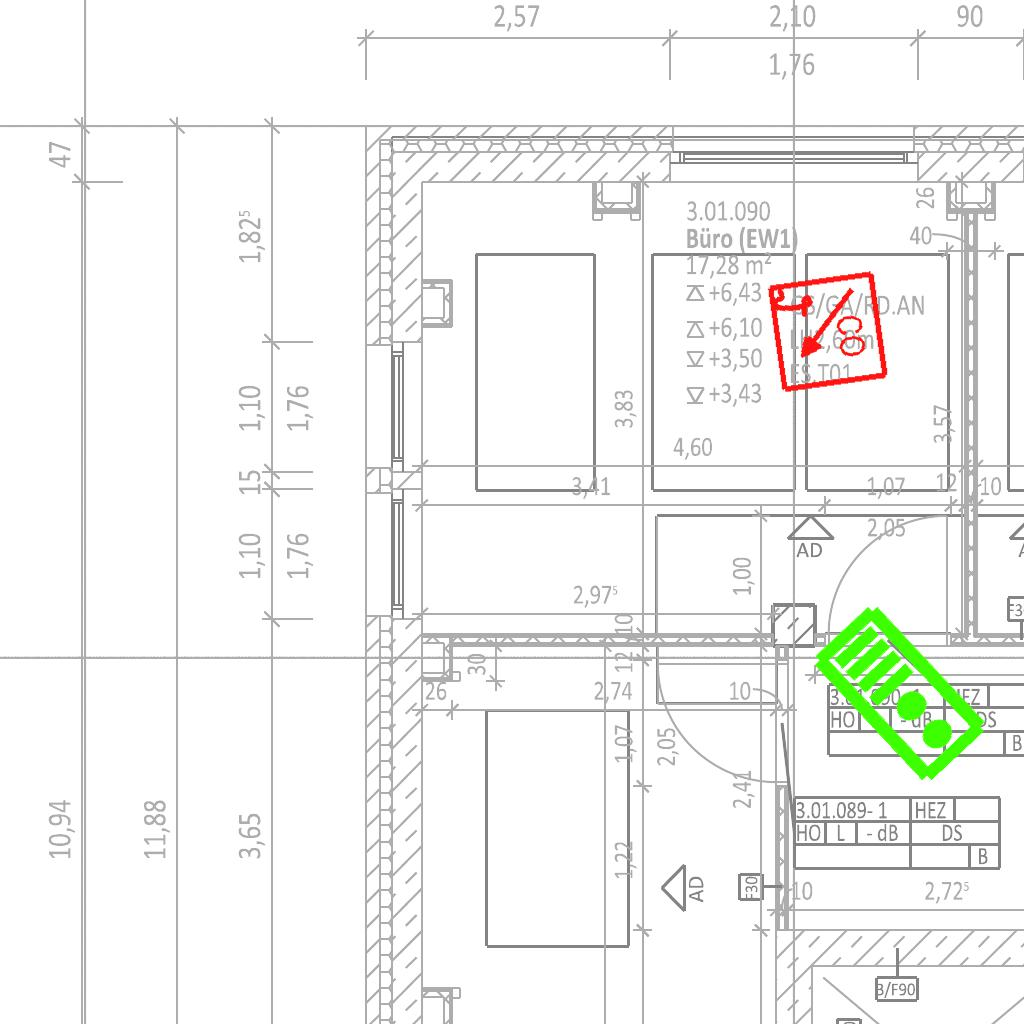Gegensprechanlage_mit_Video: (806, 596, 997, 790)
ROA_Rauchmelder_optisch_mit_Signalgeber_(Sockelsirene): (762, 268, 891, 397)
